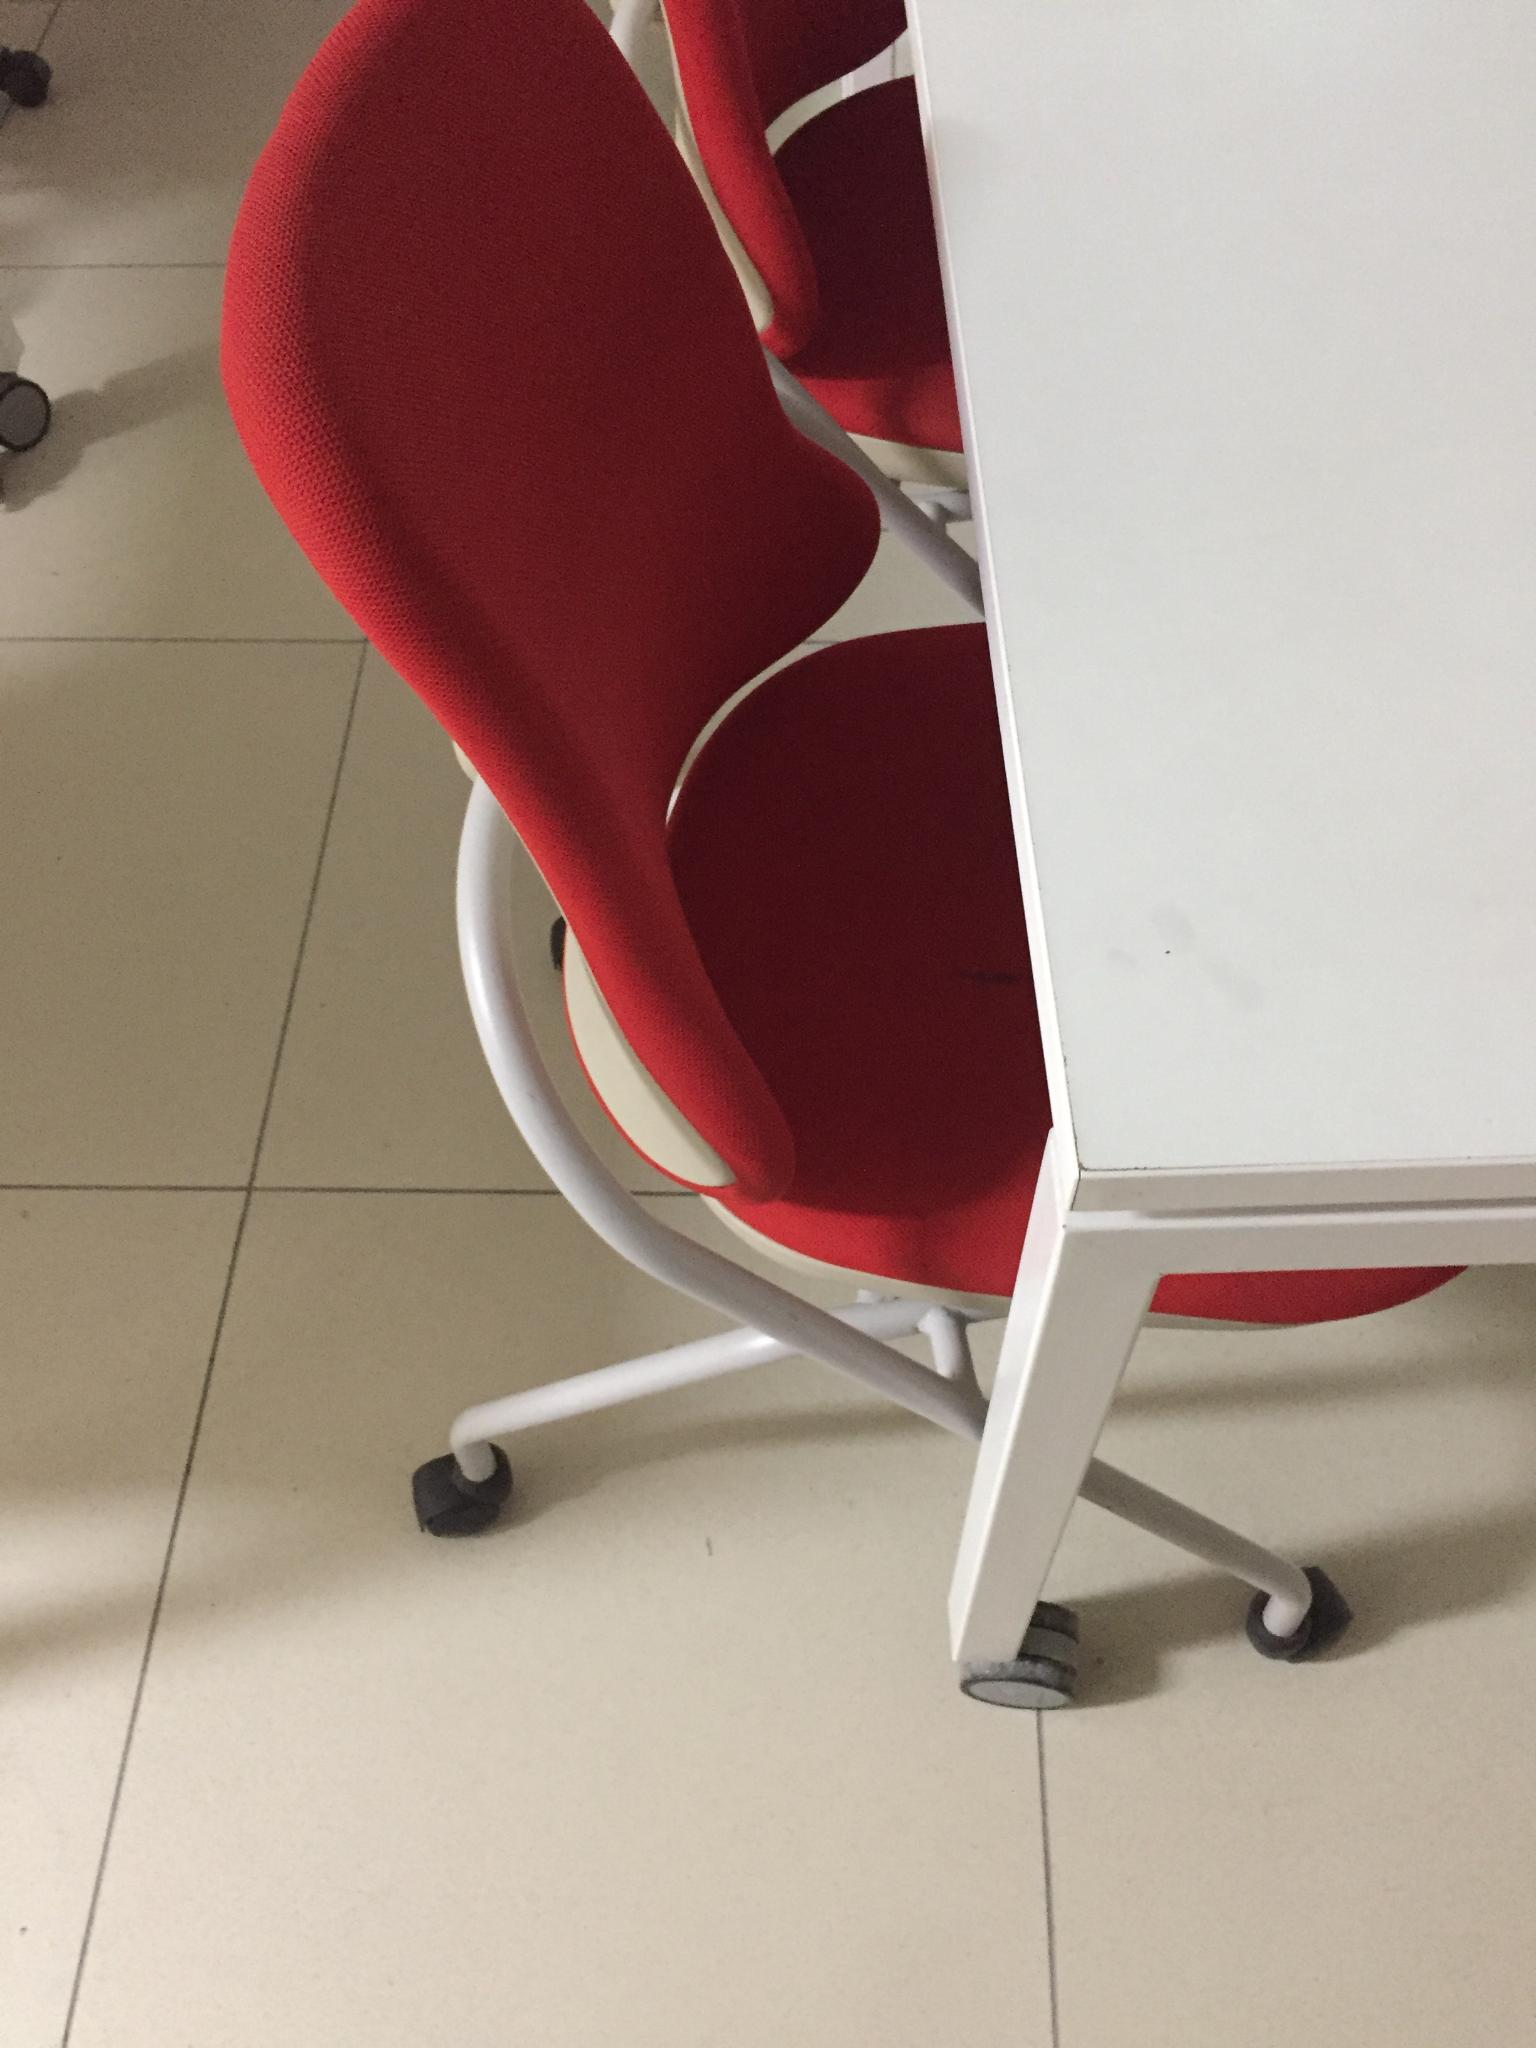chair: (216, 2, 1492, 1708)
